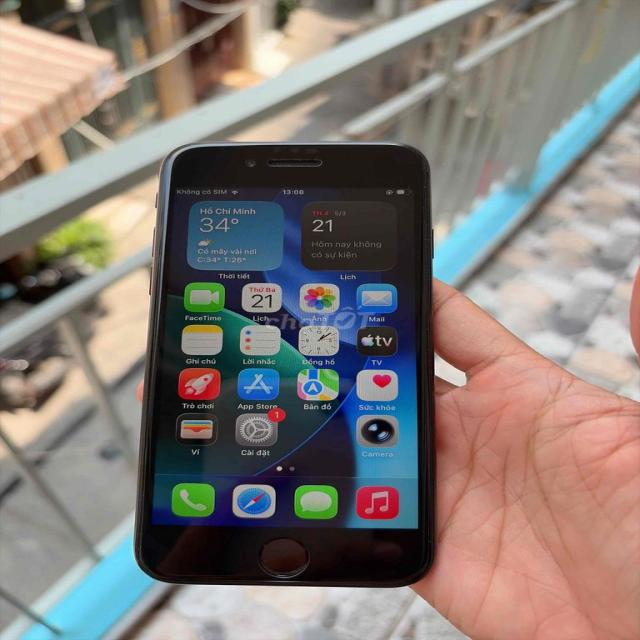gen_7_8: (142, 136, 442, 591)
